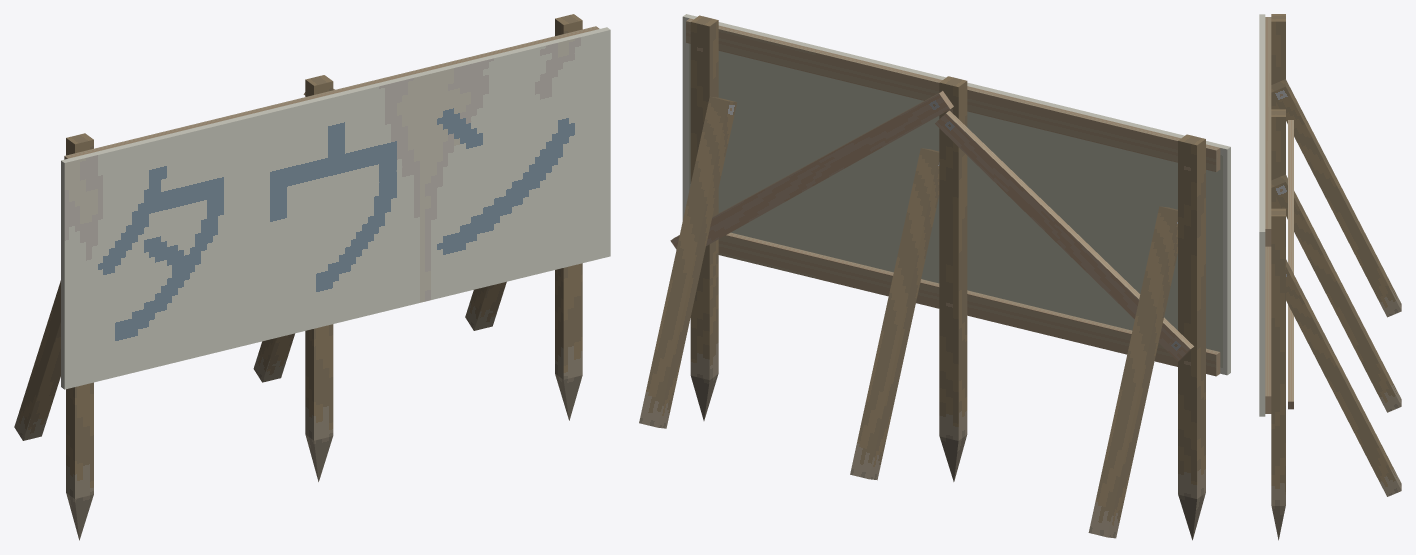
File: 0549_Town_Sign.glb
3 views of the same model, side by side, from view 1: azimuth 30°, elevation 25°; view 2: azimuth 150°, elevation 25°; view 3: azimuth 270°, elevation 25° (orthographic). The views are drawn at different scales.
Parts seen in each view (by area): view 1: part_0; view 2: part_0; view 3: part_0.
Boxes of the visible parts, box(x1,y1,x2,y2) form: part_0: box(14, 14, 610, 540); part_0: box(639, 14, 1230, 540); part_0: box(1259, 14, 1401, 540).
Bounding box in the file's own units: 5.59 × 3.93 × 1.54.
1 material, 1 textured.
